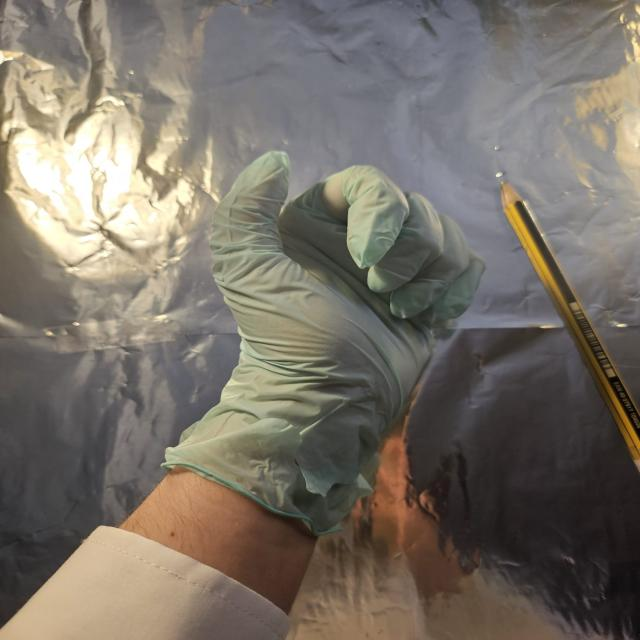gloves_damaged: (158, 148, 485, 533)
